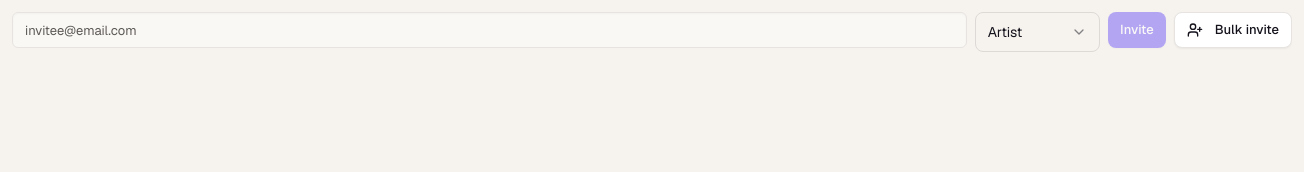
Test: InviteBar duplicate detection › disables the Resend hint while that invite's resend is in flight
Step 1. Type "kim@x.com" into the field with placeholder "invitee@email.com" → point(489, 30), box 12,12 -> 967,48
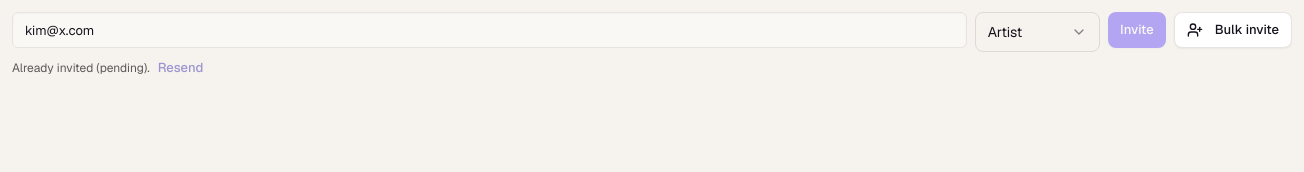
Result: the button "Resend" is disabled at 158,60 -> 203,76
